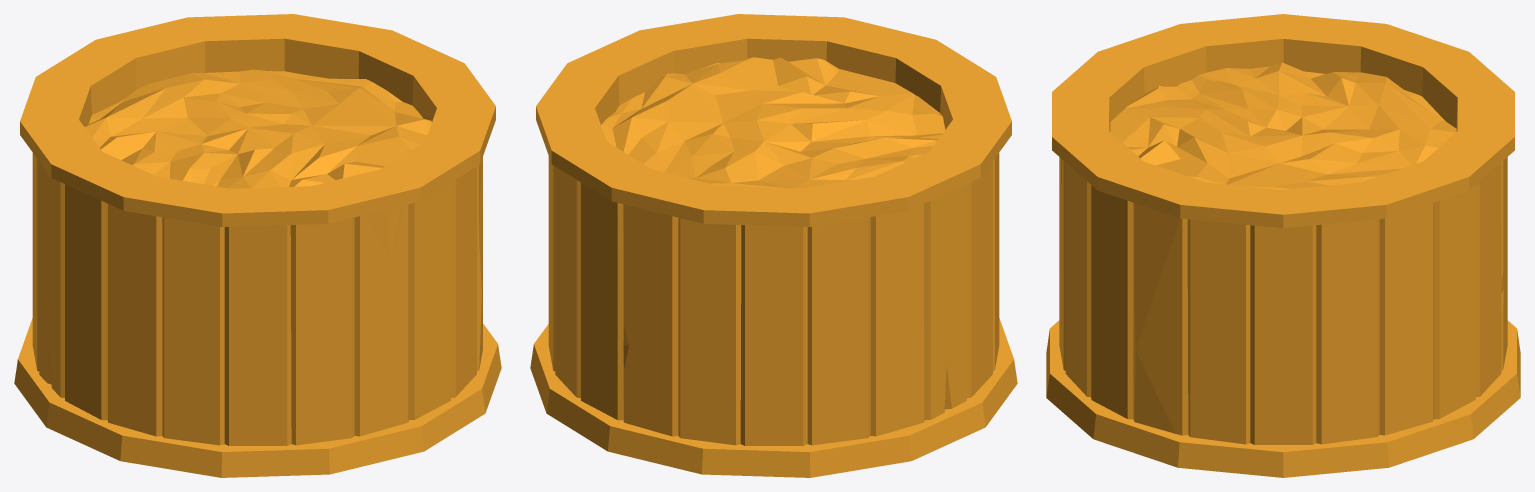
Rendered from SM_City_Planter_Street_B_Empty.fbx.
3 views of the same model, side by side, from view 1: azimuth 30°, elevation 25°; view 2: azimuth 150°, elevation 25°; view 3: azimuth 270°, elevation 25° (orthographic).
Visible parts, largest first — view 1: SM_City_Planter_Street_B_Empty; view 2: SM_City_Planter_Street_B_Empty; view 3: SM_City_Planter_Street_B_Empty.
Boxes of the visible parts, <box> form: SM_City_Planter_Street_B_Empty: <box>14,14,501,477</box>; SM_City_Planter_Street_B_Empty: <box>530,14,1017,477</box>; SM_City_Planter_Street_B_Empty: <box>1046,14,1520,477</box>.
Size of the model in its own units: 1.49 by 0.8789 by 1.45.
